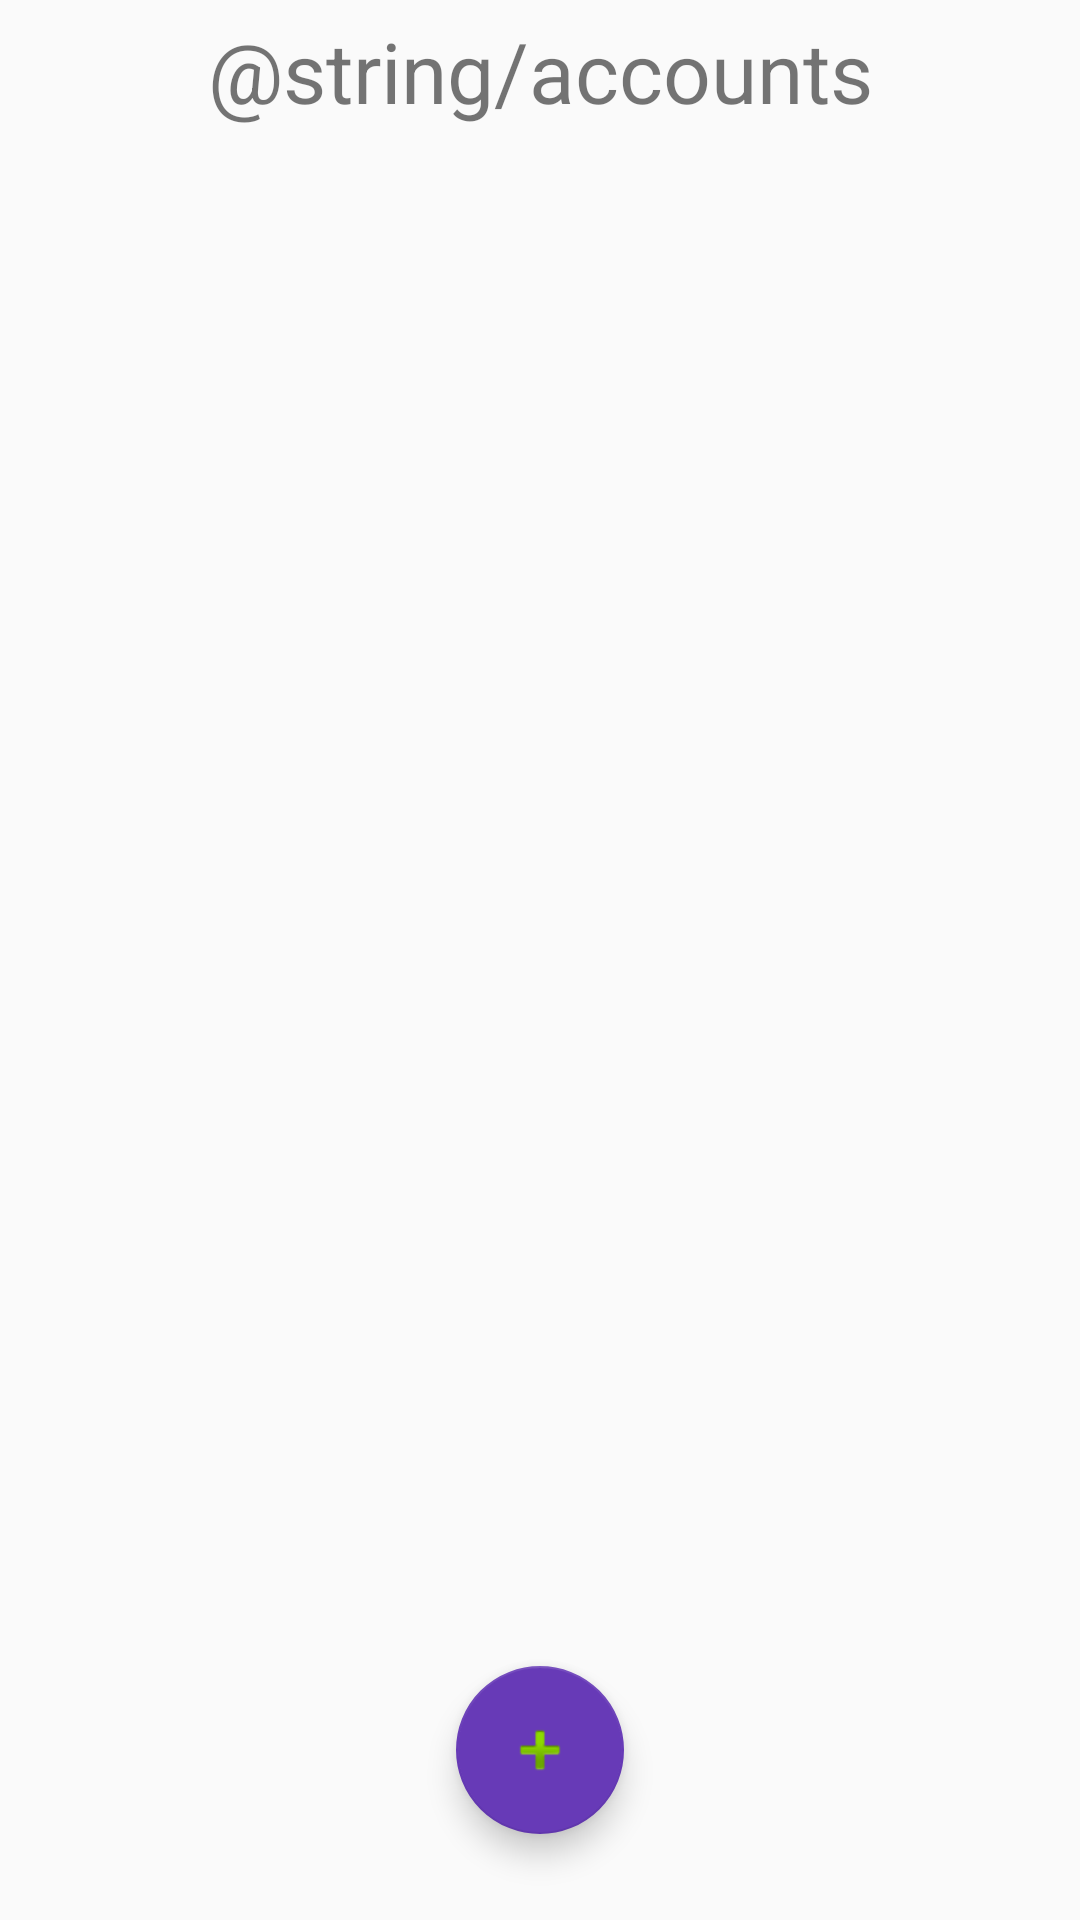

Screen size 1080 × 1920. Icon name, then its center in pixels as (x,y):
add: (540,1750)
